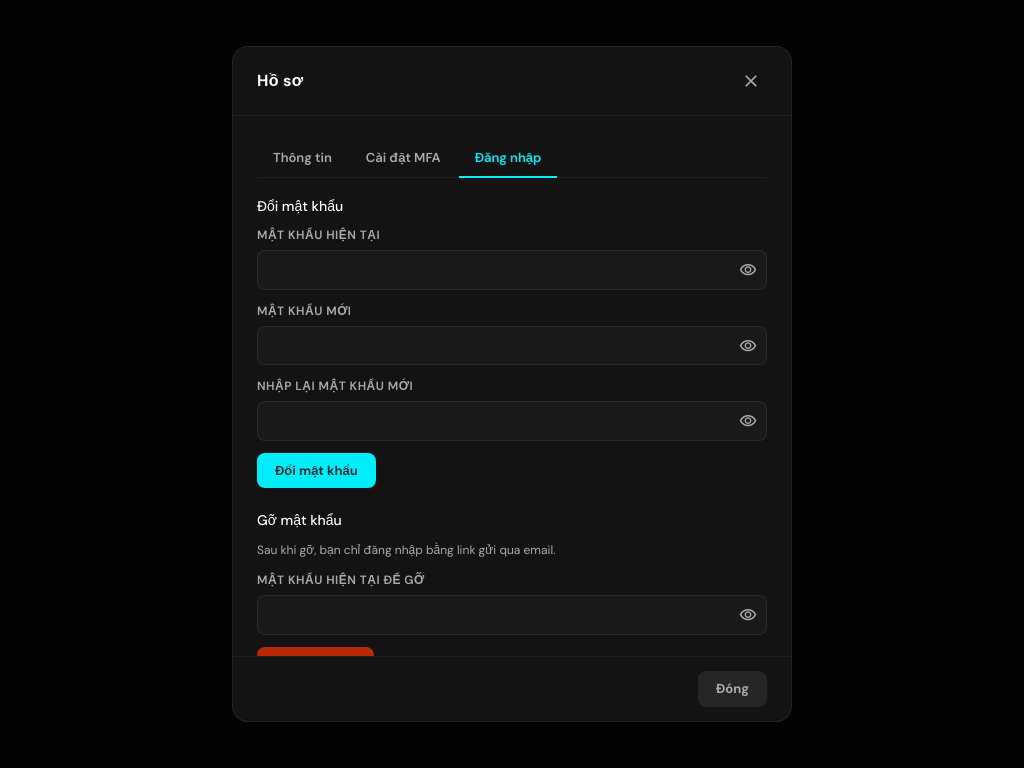
Test: ProfileModal sign-in tab: change and remove › maps CURRENT_PASSWORD_INVALID
Type "bad" into the password field labelled "Mật khẩu hiện tại" at (512, 270), box [257,250,767,290]
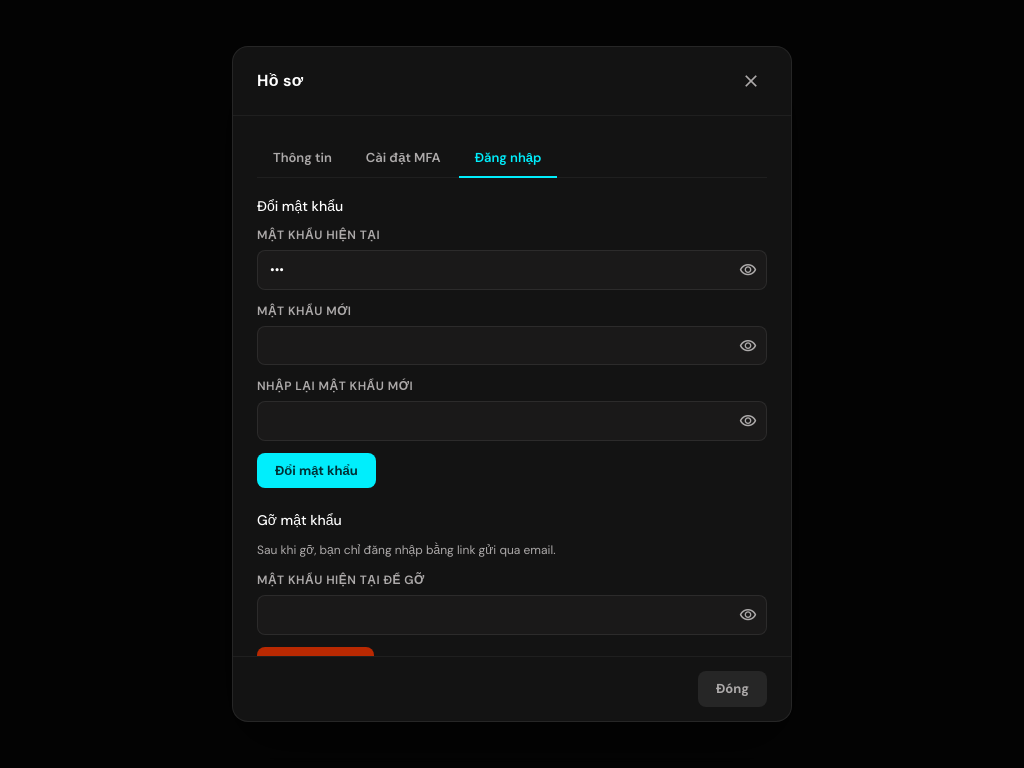
Type "new-password-12" into the password field labelled "Mật khẩu mới" at (512, 346), box [257,326,767,365]
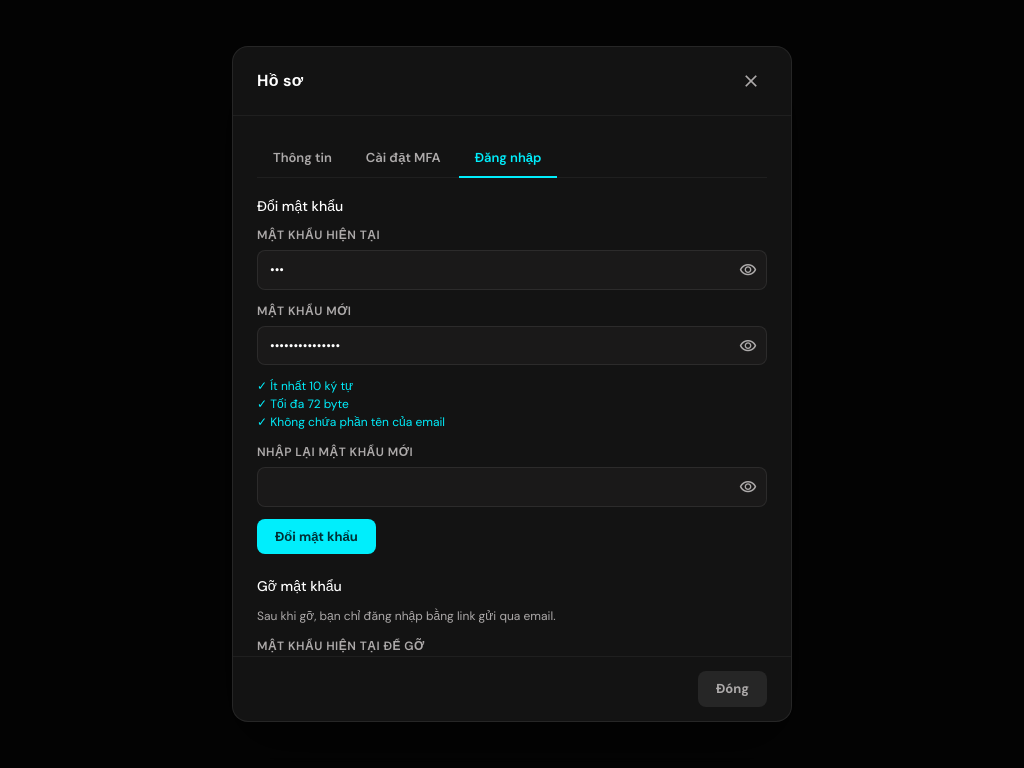
Type "new-password-12" into the password field labelled "Nhập lại mật khẩu mới" at (512, 487), box [257,467,767,507]
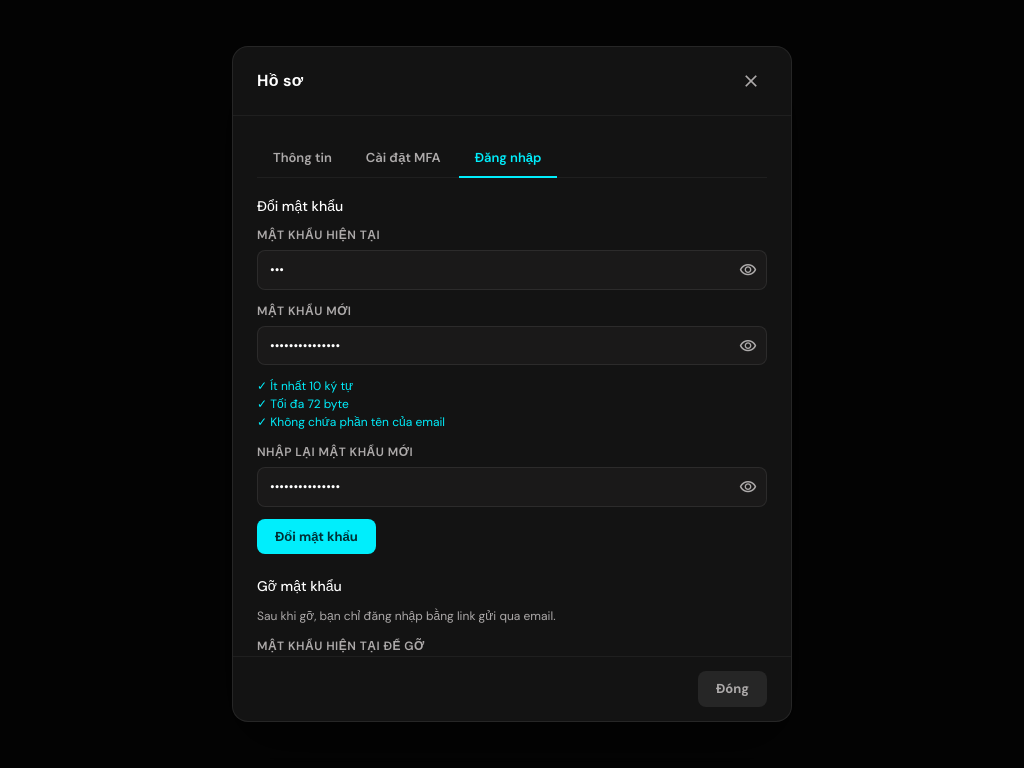
Click the button "Đổi mật khẩu" at (316, 537), box [257,519,376,554]
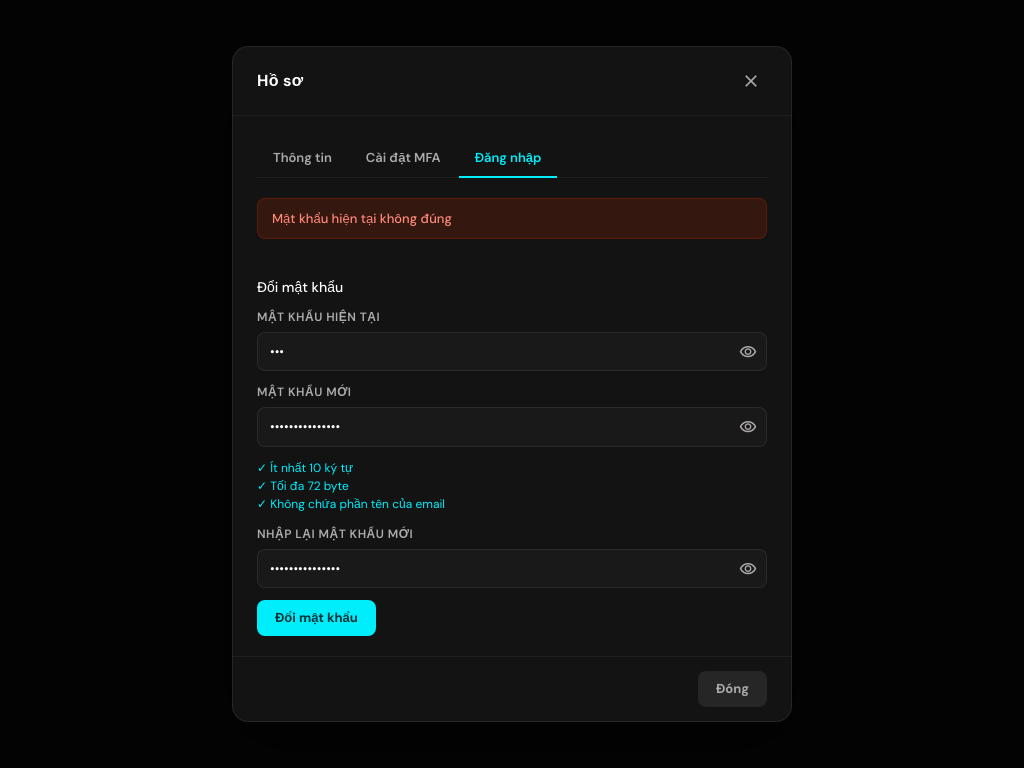
Check: the text "Mật khẩu hiện tại không đúng" is shown, box [257,198,767,239]
